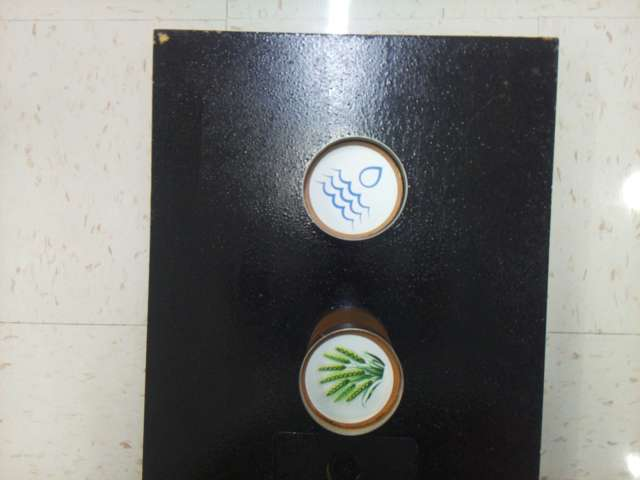water_barrel: (311, 152, 396, 231)
wheat_barrel: (310, 337, 389, 419)
